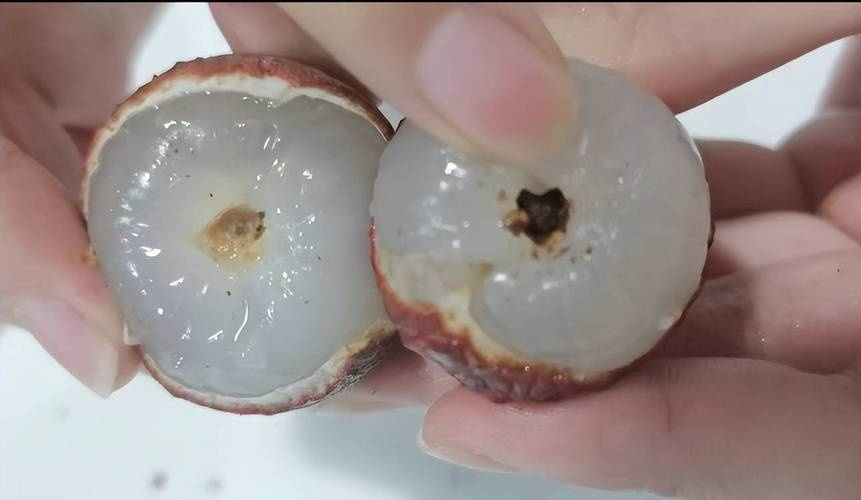Borer: (501, 186, 580, 254), (211, 196, 264, 270)
